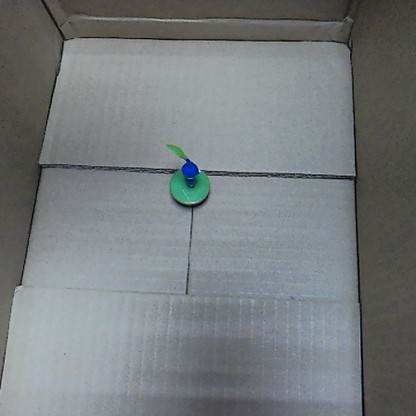leafairy: (160, 138, 211, 208)
